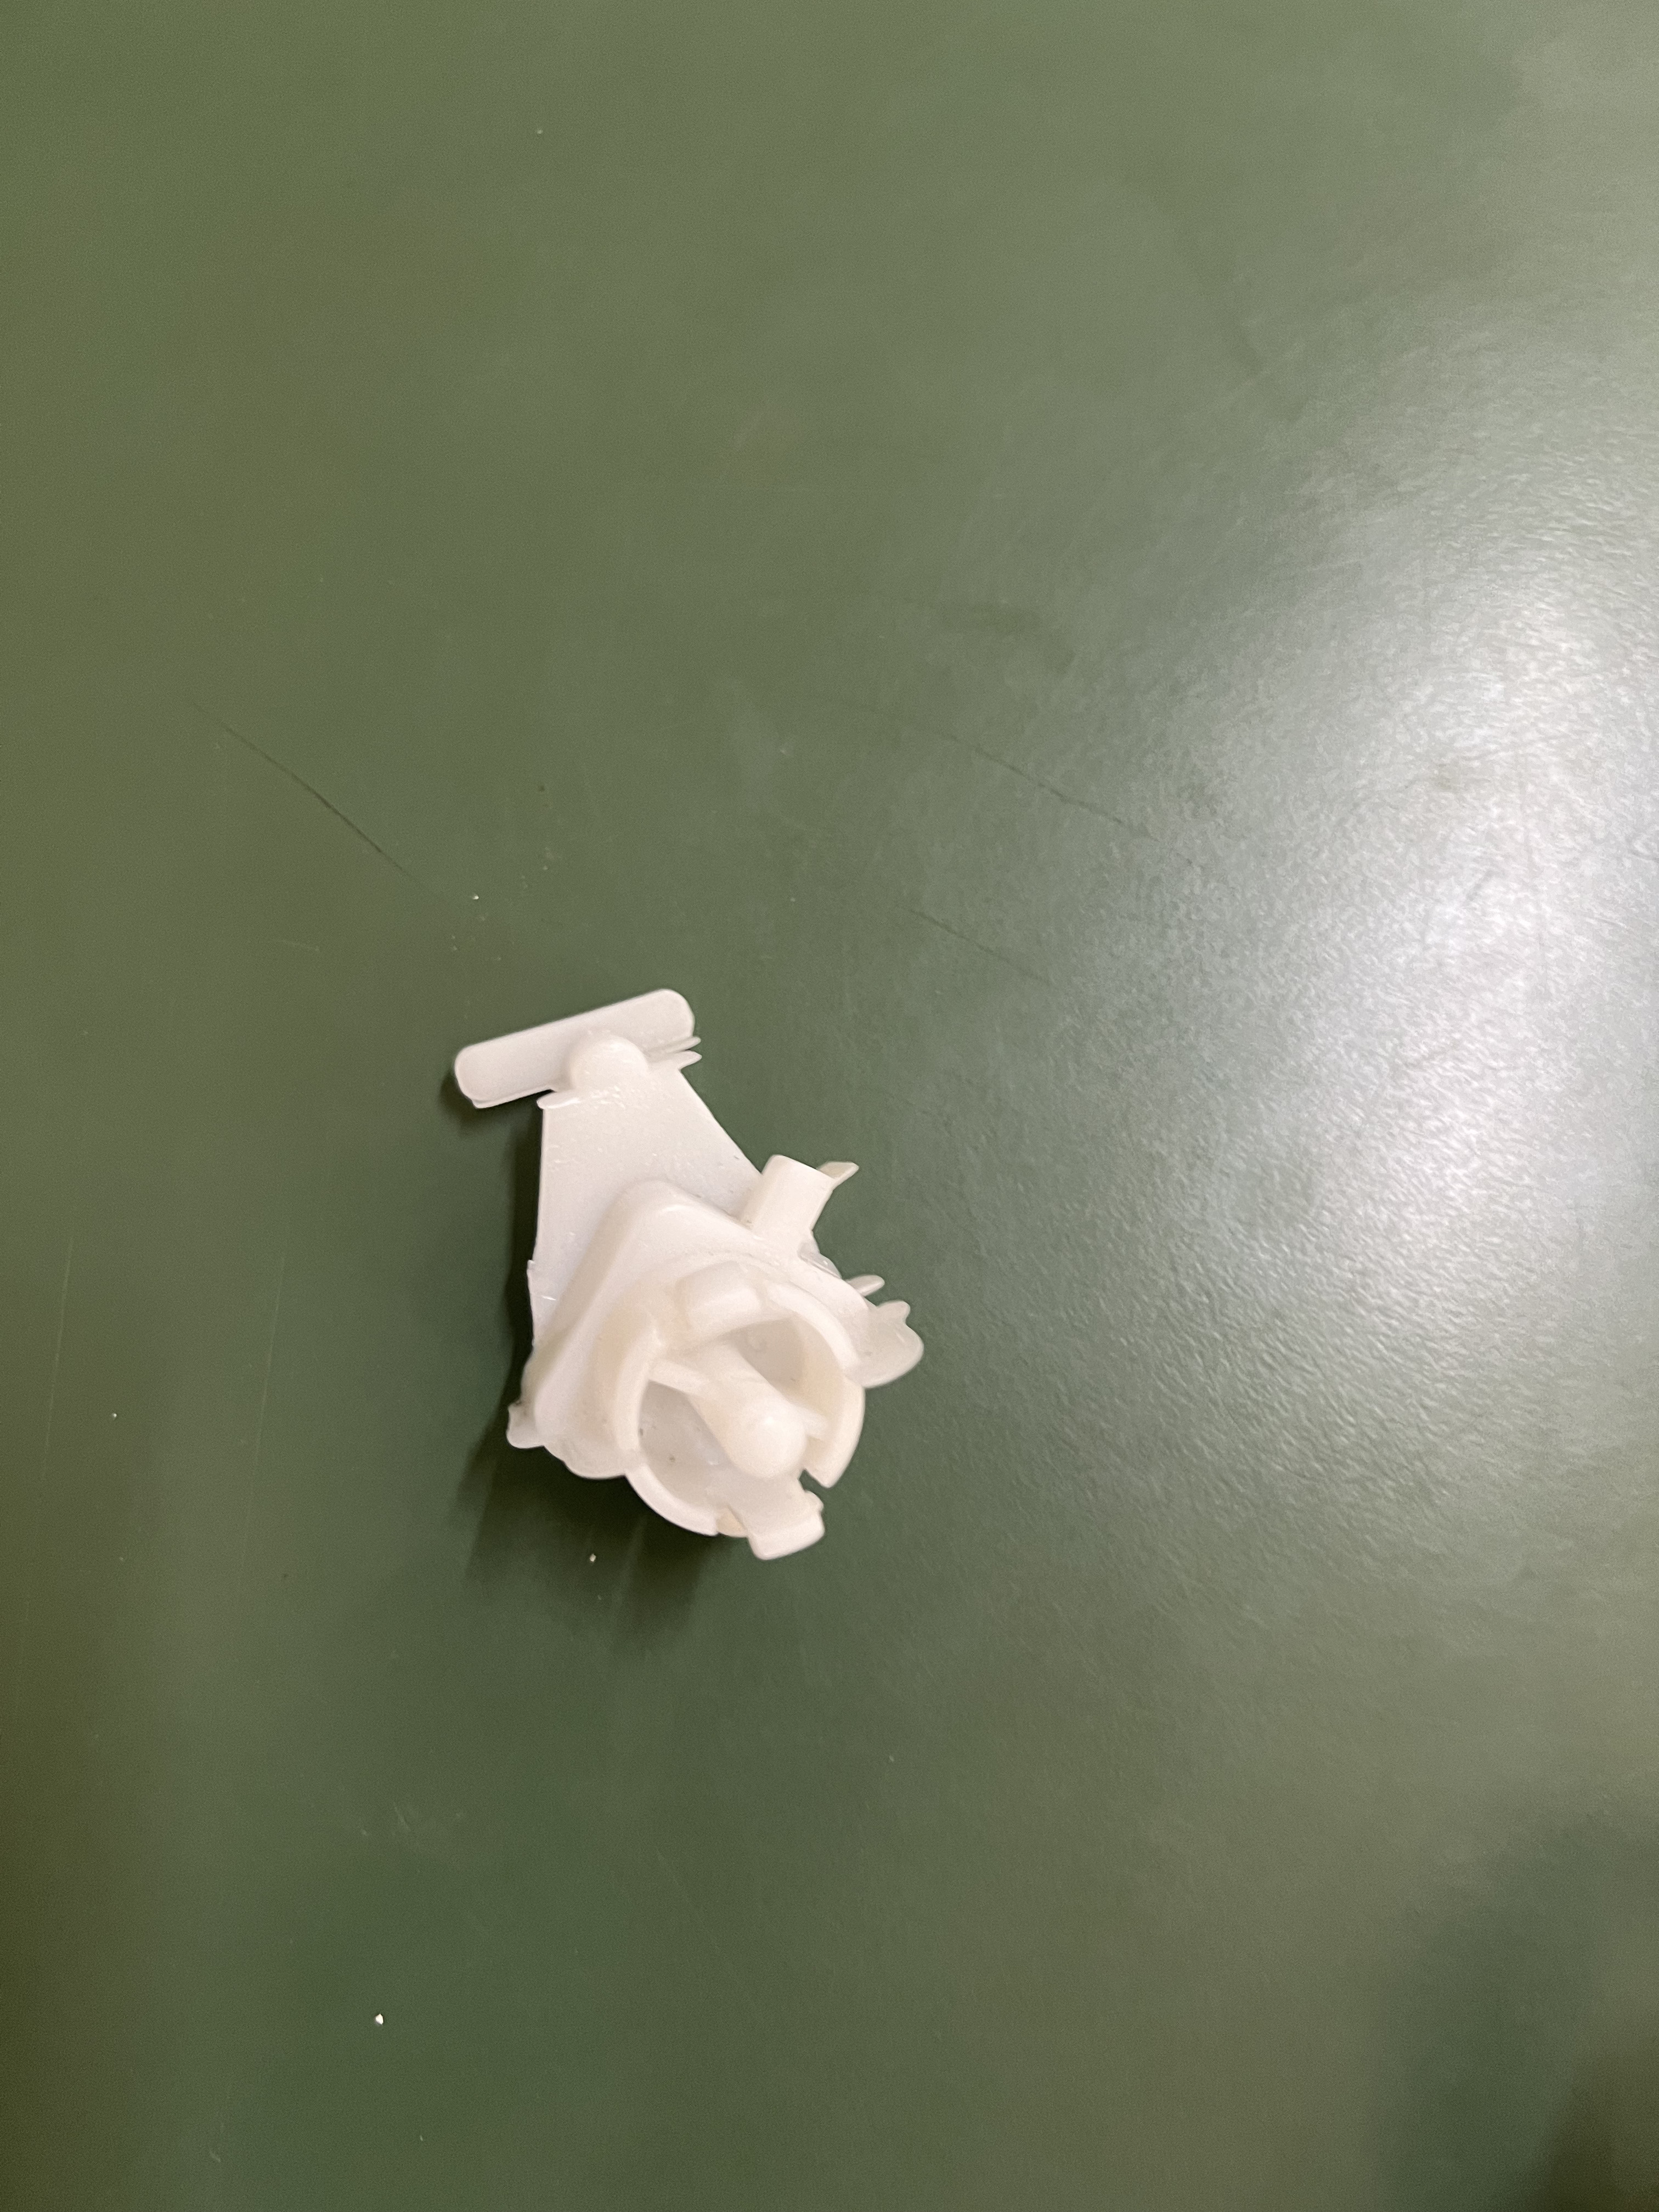drain_lever: (453, 982, 943, 1611)
